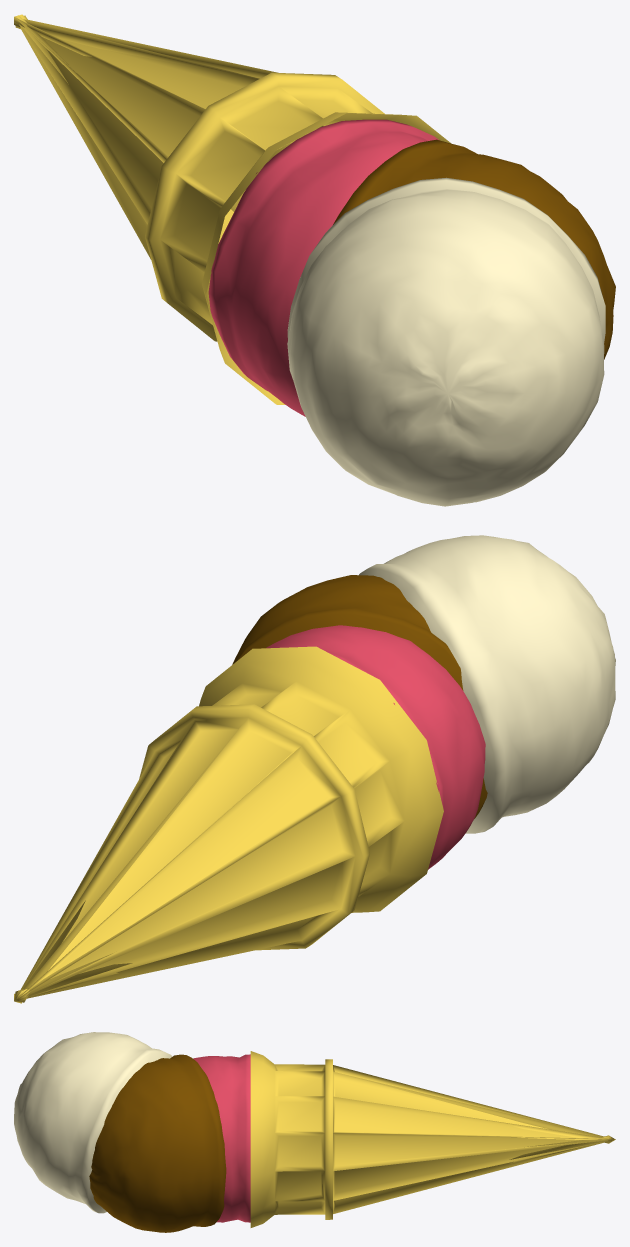
3 views of the same model, one above another, from view 1: azimuth 30°, elevation 25°; view 2: azimuth 150°, elevation 25°; view 3: azimuth 270°, elevation 25° (orthographic). The views are drawn at different scales.
Parts seen in each view (by area): view 1: Vanilla, Cone, Strawberry, Chocolate; view 2: Cone, Vanilla, Strawberry, Chocolate; view 3: Cone, Chocolate, Vanilla, Strawberry.
Boxes of the visible parts, bbox=[...] form: Vanilla: bbox=[287, 177, 605, 506]; Cone: bbox=[14, 14, 450, 404]; Strawberry: bbox=[208, 119, 439, 416]; Chocolate: bbox=[333, 139, 615, 359]; Cone: bbox=[14, 646, 443, 1003]; Vanilla: bbox=[359, 535, 615, 833]; Strawberry: bbox=[266, 625, 485, 869]; Chocolate: bbox=[232, 575, 487, 818]; Cone: bbox=[250, 1051, 615, 1227]; Chocolate: bbox=[89, 1054, 226, 1232]; Vanilla: bbox=[14, 1032, 172, 1213]; Strawberry: bbox=[193, 1054, 250, 1222].
Bounding box in the file's own units: 1.81 × 1.6 × 5.11.
